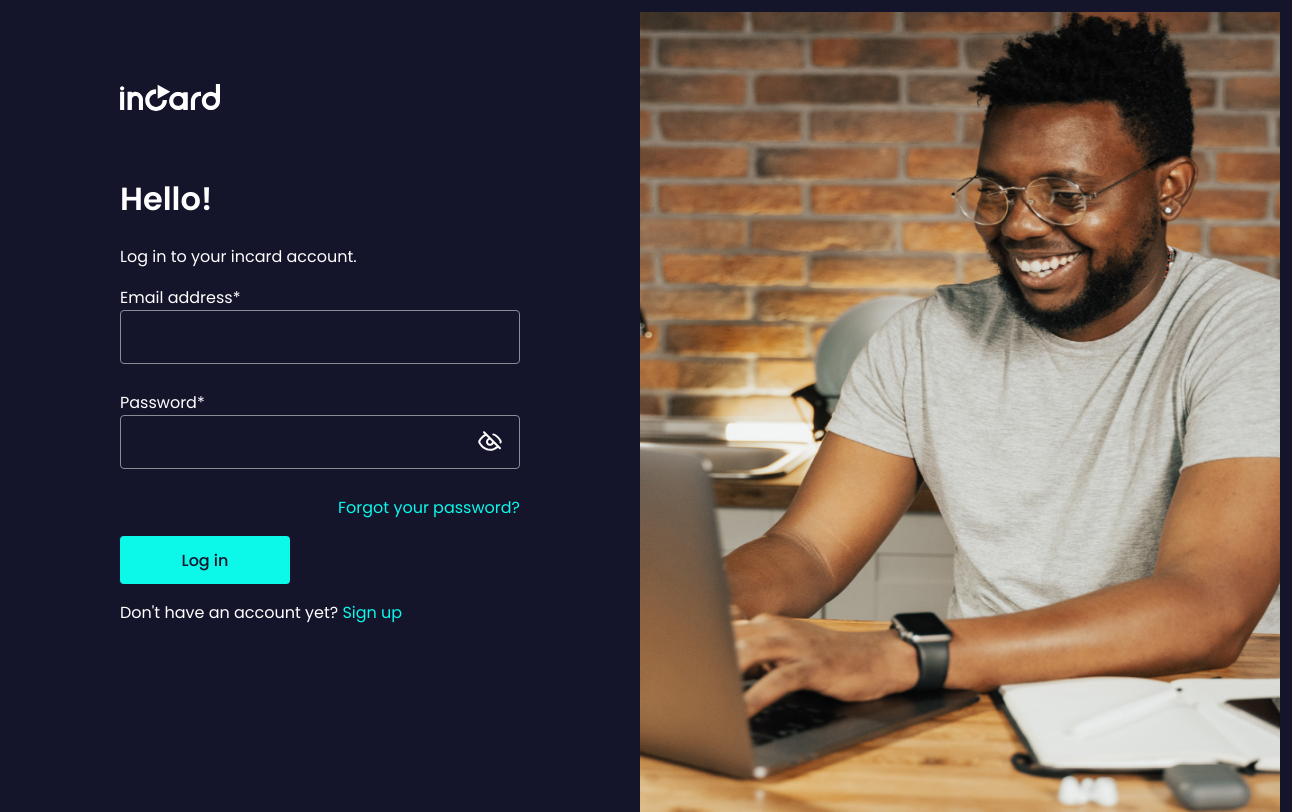
Test: Login page: › it shows errors if enter wrong information
The image size is (1292, 812).
Step 1. Type "wrongemail" into the field labelled "Email address*" → (320, 337), box [120, 310, 520, 364]
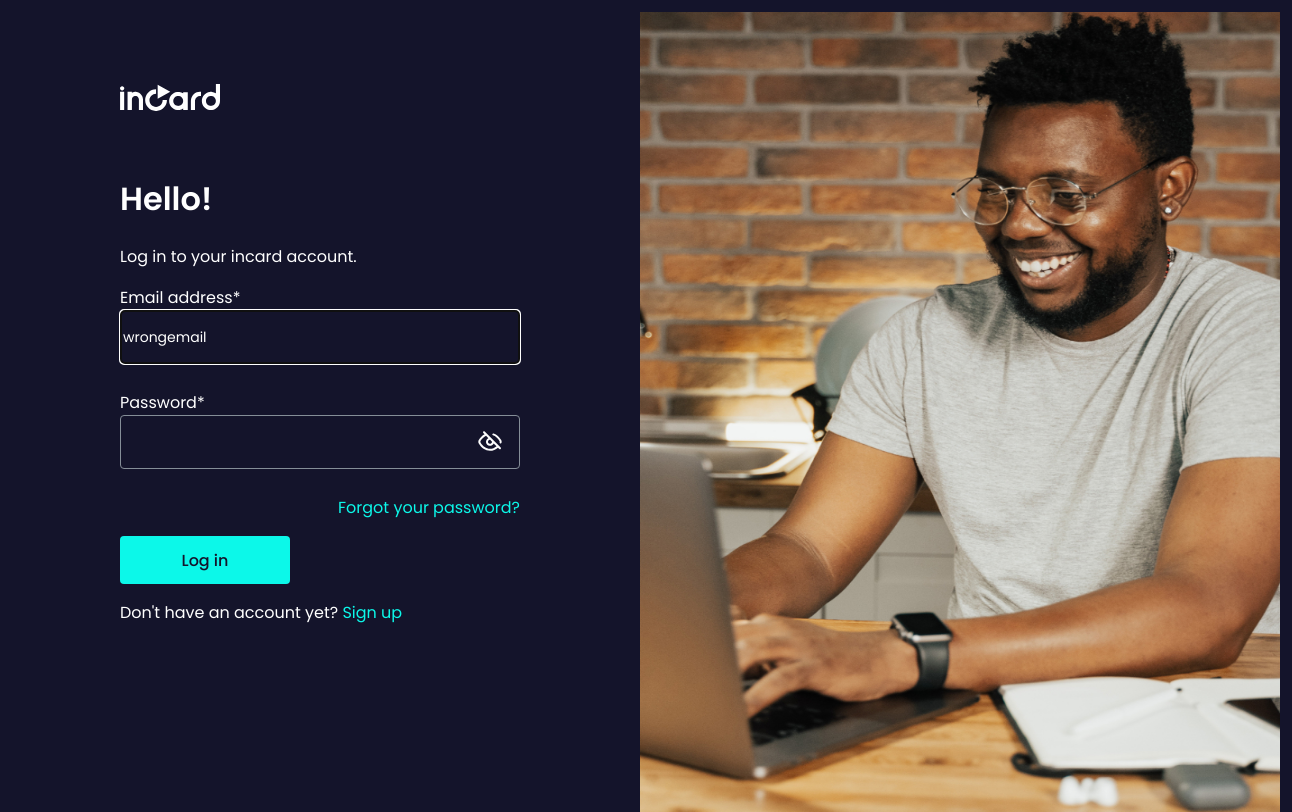
Step 2. Type "wrongpassword" into the password field labelled "Password*" → (320, 442), box [120, 415, 520, 469]
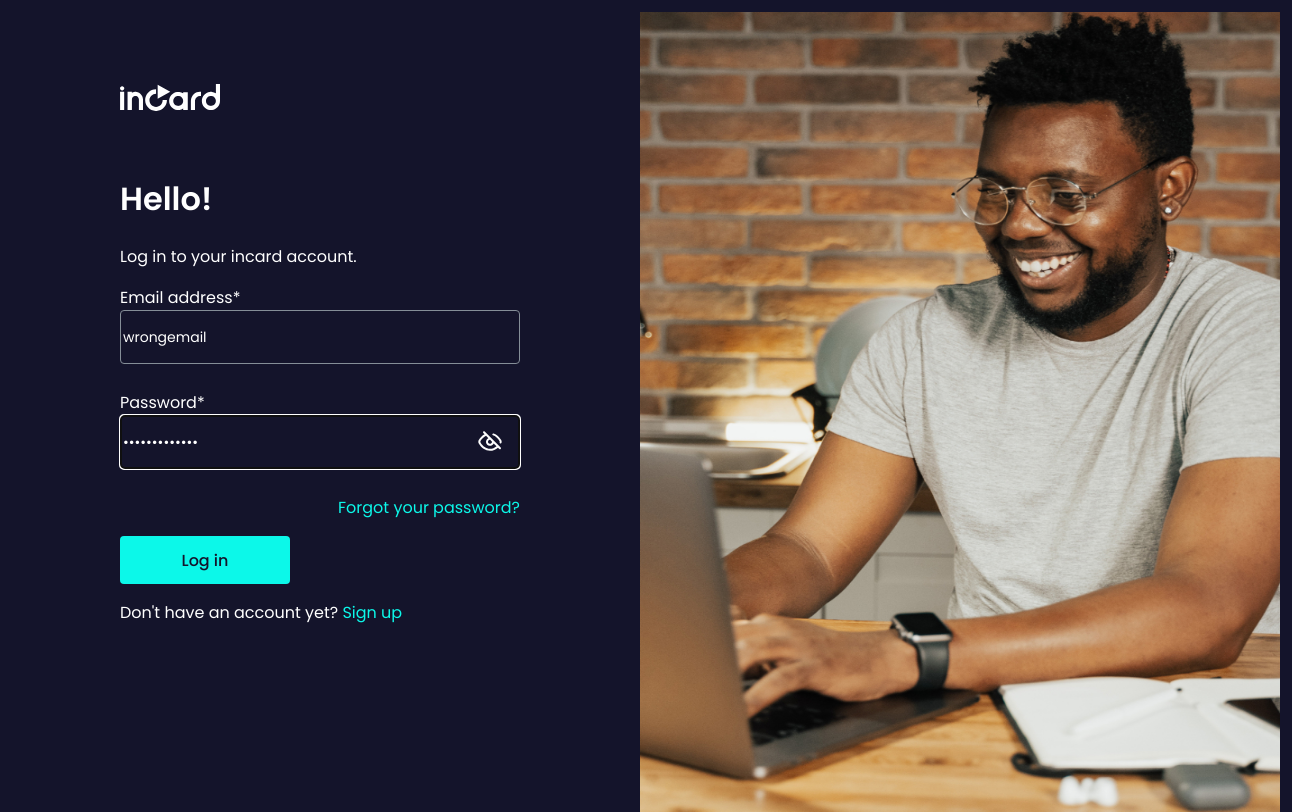
Step 3. Click the button "Log in" → click(205, 560), box [120, 536, 290, 584]
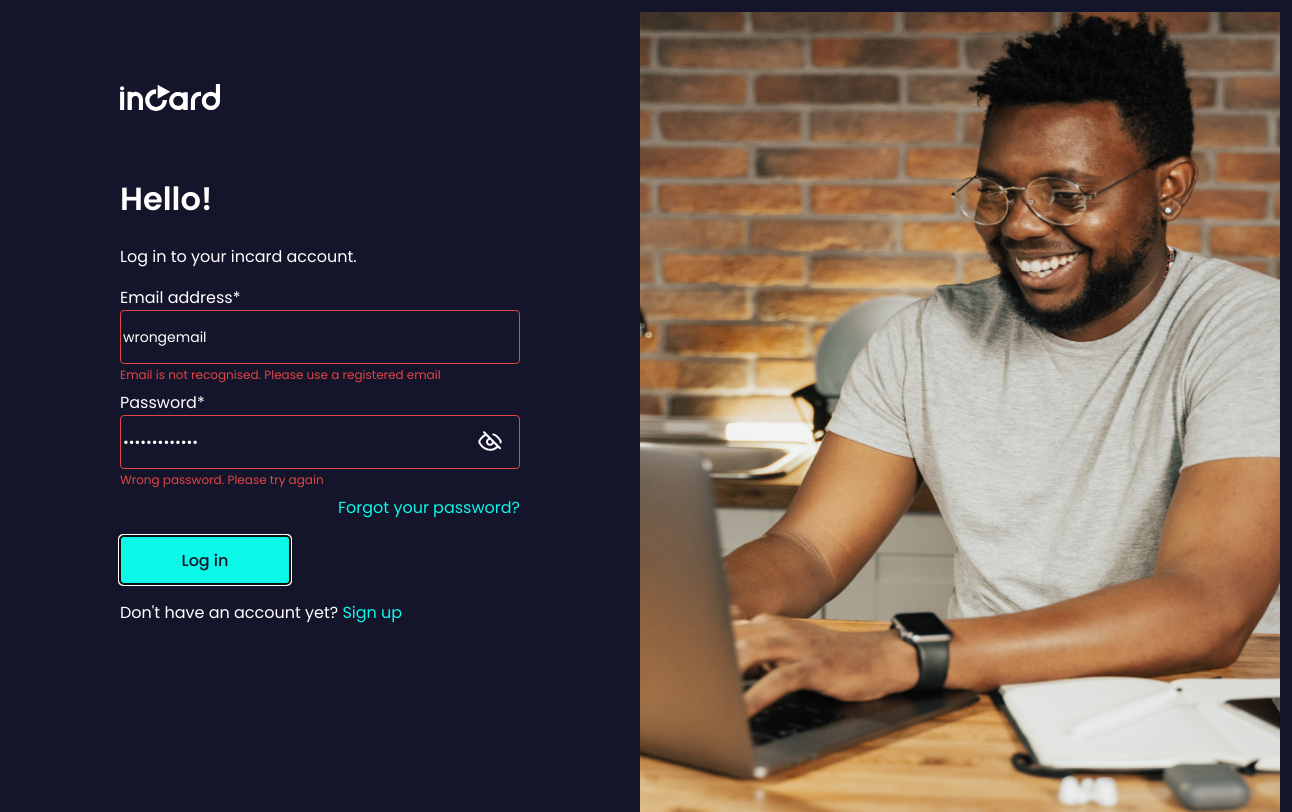
Expected: the text "Email is not recognised. Please use a registered email" is shown, [120, 366, 441, 383]
Expected: the text "Wrong password. Please try again" is shown, [120, 471, 324, 488]
